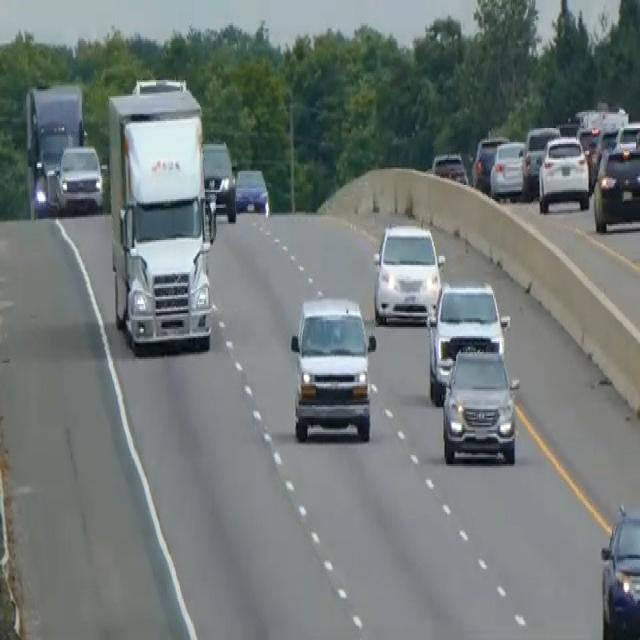car: (425, 279, 510, 404), (440, 341, 520, 466), (372, 220, 444, 326), (598, 502, 639, 638), (537, 134, 590, 214), (593, 142, 639, 233), (56, 142, 103, 214), (521, 122, 560, 196), (202, 137, 236, 220), (489, 139, 526, 201), (471, 133, 508, 192), (234, 165, 269, 215), (431, 149, 467, 185), (613, 119, 639, 153)
lorry: (105, 74, 216, 356), (24, 80, 85, 215)
minivan: (288, 292, 377, 444)
